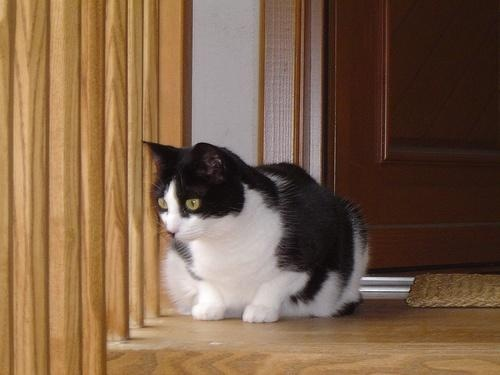cat: (139, 134, 372, 323)
